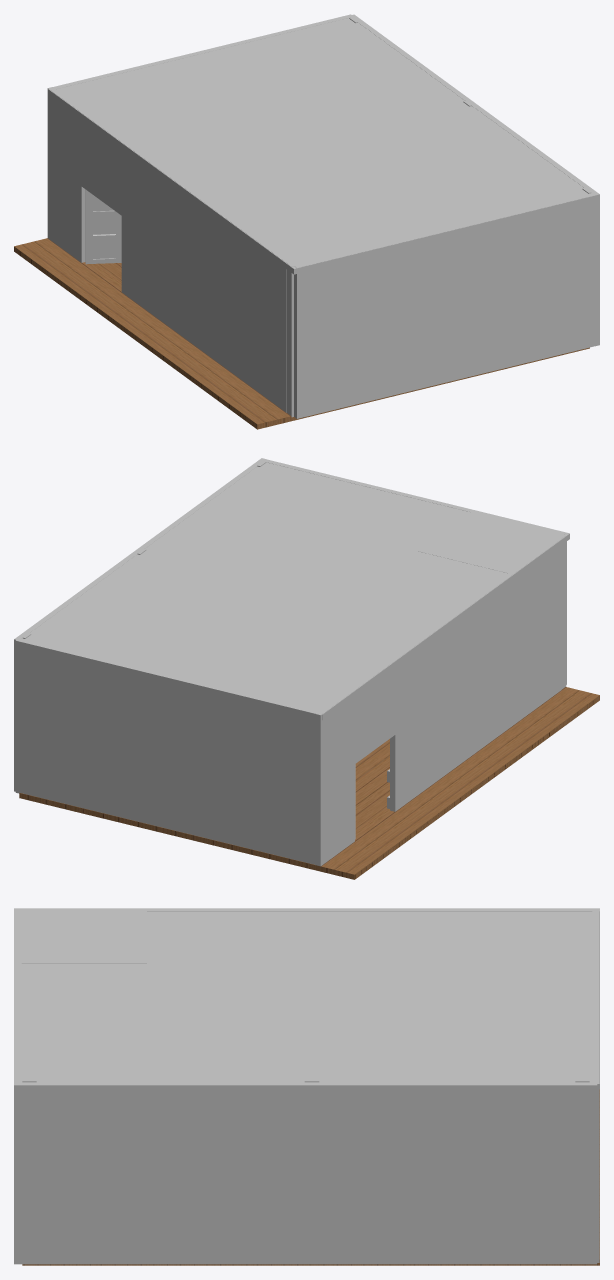
File: snowwhite3.FBX
3 views of the same model, one above another, from view 1: azimuth 30°, elevation 25°; view 2: azimuth 150°, elevation 25°; view 3: azimuth 270°, elevation 25° (orthographic). The views are drawn at different scales.
Parts seen in each view (by area): view 1: Box337, Box313, Box316, Box011, Box041, Box317, Box318, Box315, Box046, Box314; view 2: Box337, Box314, Box316, Box011, Box317, Box041, Box318, Box315, Box313; view 3: Box315, Box337, Box041, Box314, Box313, Box316, Box011, Box317.
Boxes of the visible parts, <box> form: Box337: <box>48,17,596,274</box>; Box313: <box>294,192,595,418</box>; Box316: <box>121,141,289,412</box>; Box011: <box>14,238,589,429</box>; Box041: <box>239,205,385,417</box>; Box317: <box>47,87,85,262</box>; Box318: <box>79,110,126,215</box>; Box315: <box>350,14,599,346</box>; Box046: <box>85,189,121,264</box>; Box314: <box>51,14,353,89</box>; Box337: <box>22,462,569,720</box>; Box314: <box>15,638,320,864</box>; Box316: <box>390,539,561,811</box>; Box011: <box>19,687,599,879</box>; Box317: <box>315,690,354,866</box>; Box041: <box>418,512,566,689</box>; Box318: <box>347,659,395,763</box>; Box315: <box>14,458,266,791</box>; Box313: <box>262,459,566,684</box>; Box315: <box>14,1082,597,1264</box>; Box337: <box>14,908,592,1082</box>; Box041: <box>21,908,146,963</box>; Box314: <box>592,910,599,1262</box>; Box313: <box>14,910,21,1083</box>; Box316: <box>33,908,423,911</box>; Box011: <box>22,1089,599,1265</box>; Box317: <box>520,908,599,1088</box>.
Bounding box in the file's own units: 855 × 376 × 1079.
